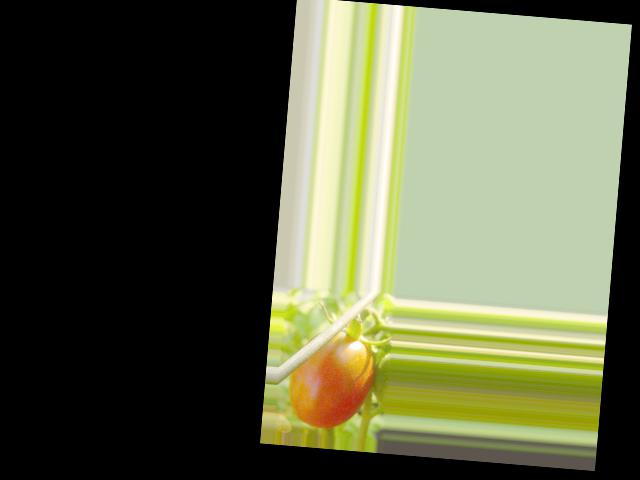tomato: (287, 327, 375, 431)
